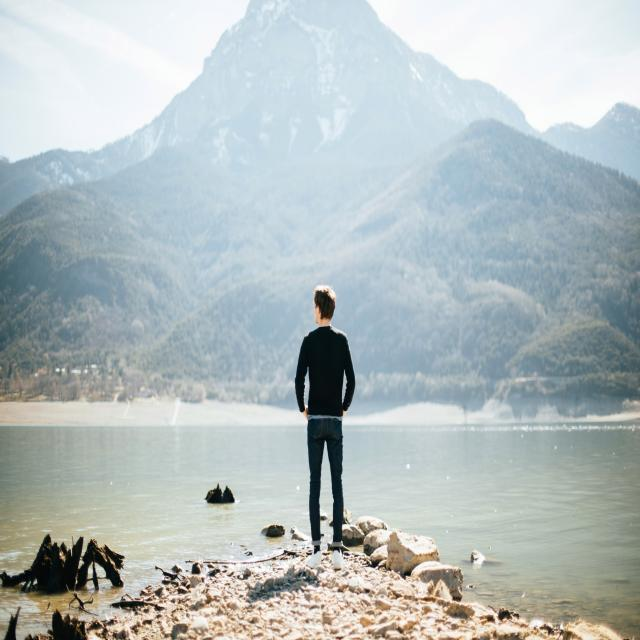adult: (294, 286, 354, 550)
